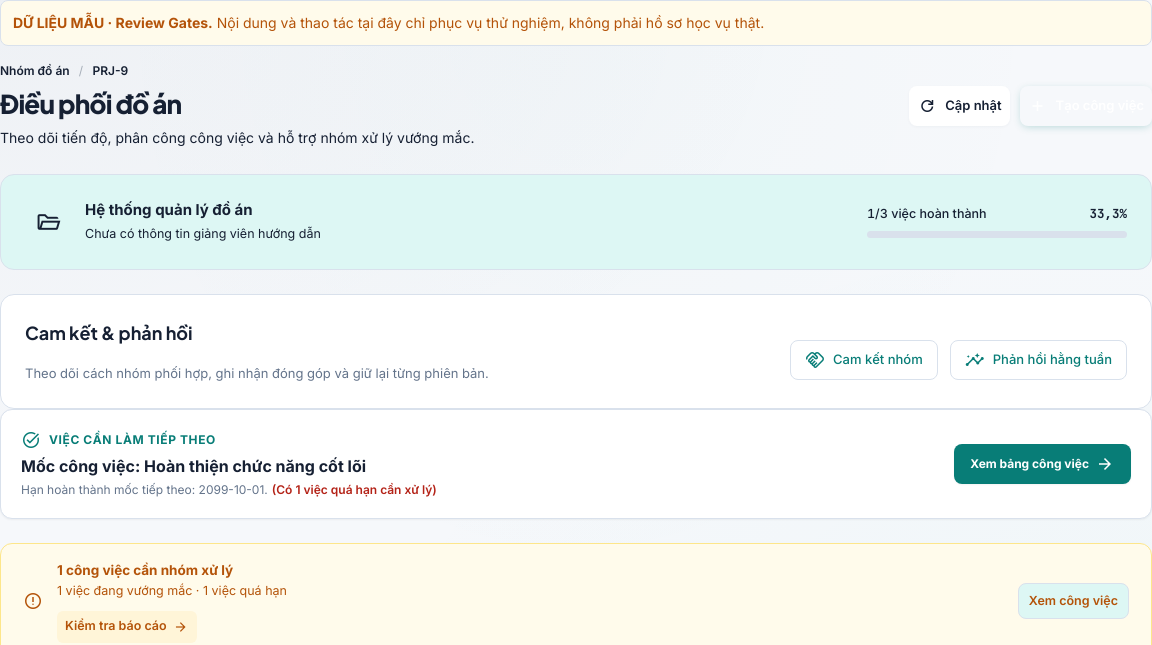
Test: collaboration workspace API integration › posts leader assignment and Vietnam due time, retains the form after failure, then reloads after success
Step 1. Click the button "Tạo công việc" → (1086, 106), box [1020,86,1151,126]
(page scrolled)
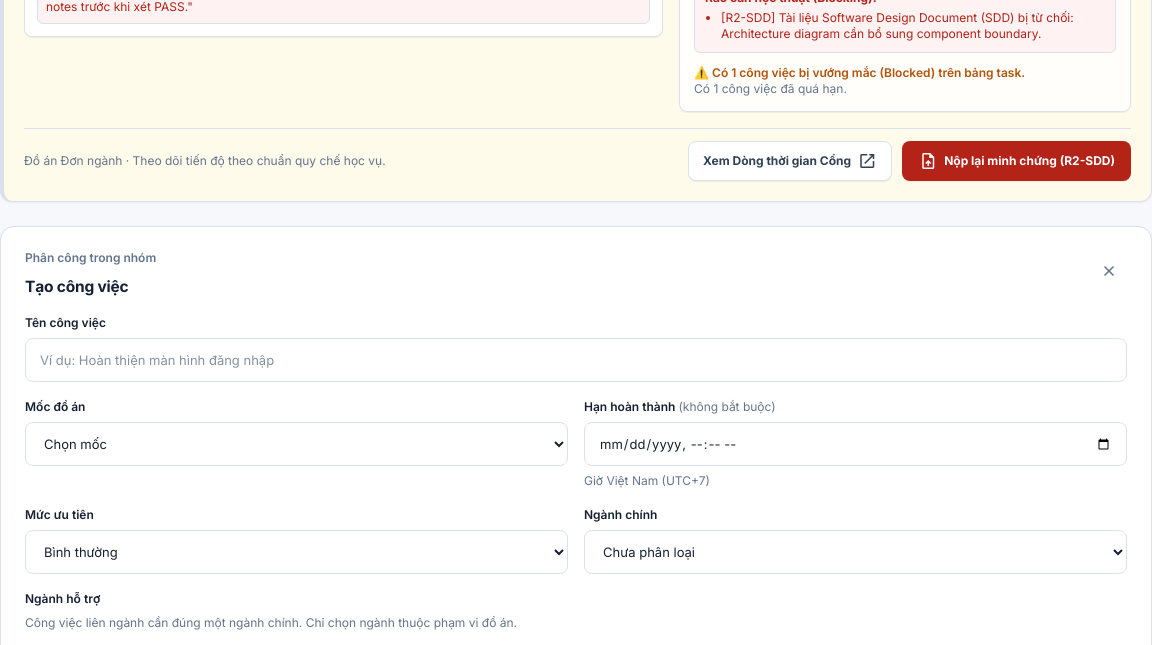
Now the dropdown labelled "Ngành chính" is shown, box [584,530,1127,574]
Step 2. Type "  Hoàn thiện đăng nhập  " into the field labelled "Tên công việc" → (576, 360), box [25,338,1127,382]
Step 3. Select "Hoàn thiện chức năng cốt lõi" in the dropdown labelled "Mốc đồ án" → (296, 444), box [25,422,568,466]
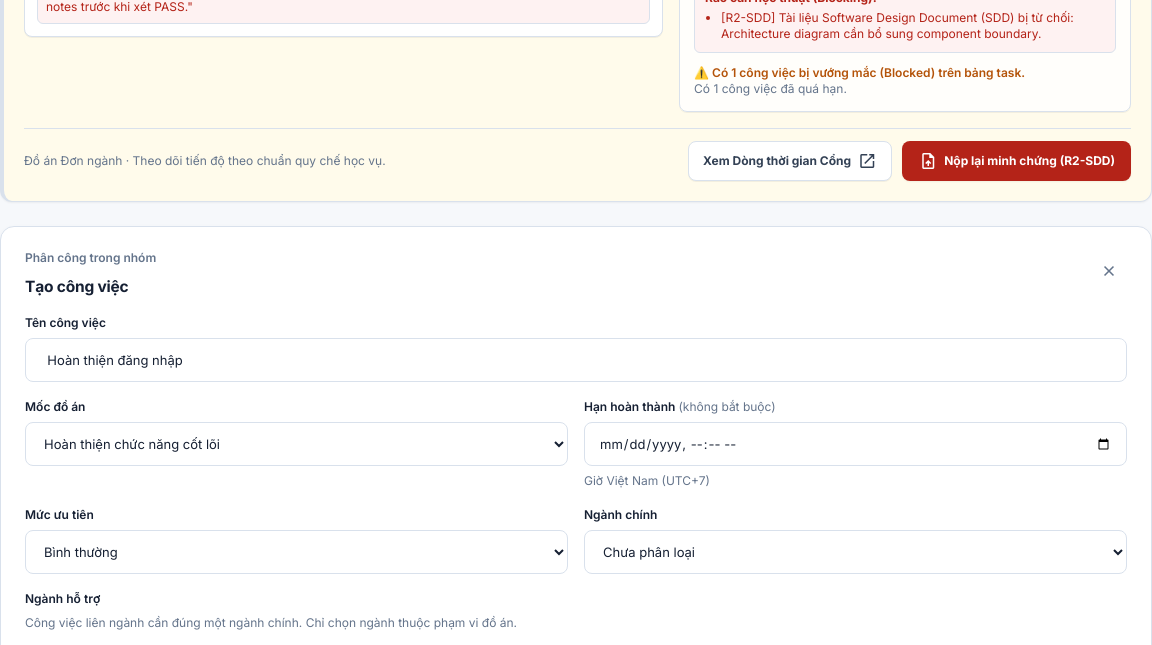
Step 4. Type "2099-10-01T15:00" into the field labelled "Hạn hoàn thành (không bắt buộc) Giờ Việt Nam (UTC+7)" → (856, 444), box [584,422,1127,466]
(page scrolled)
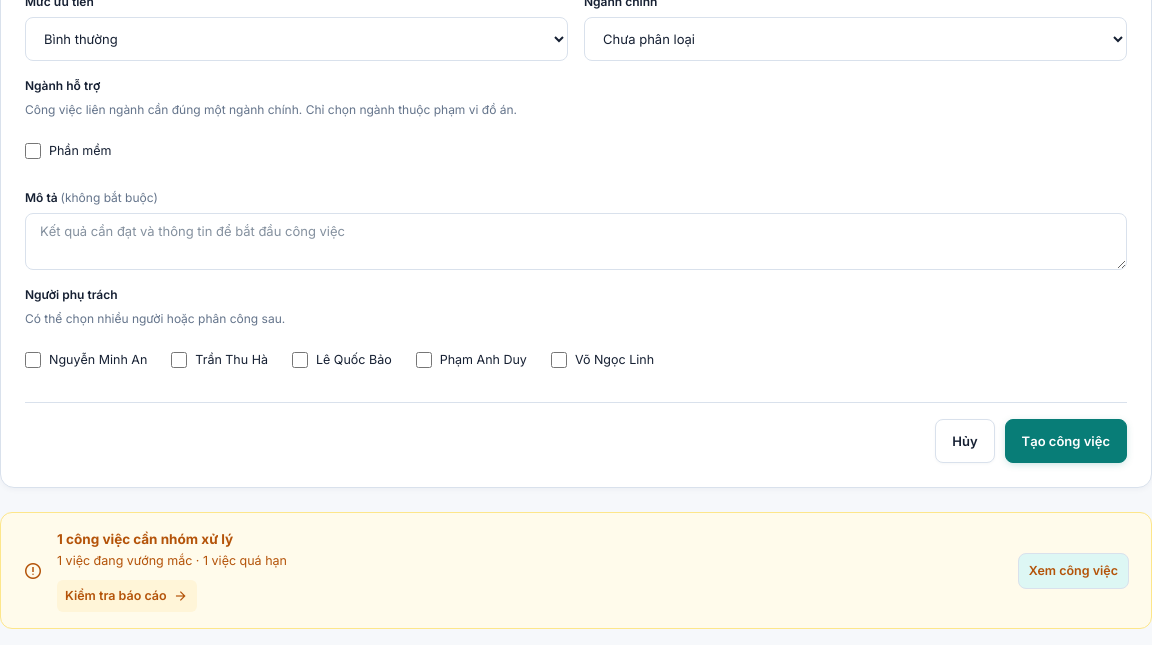
Step 5. Click the checkbox labelled "Trần Thu Hà" → (179, 360), box [171,352,187,368]
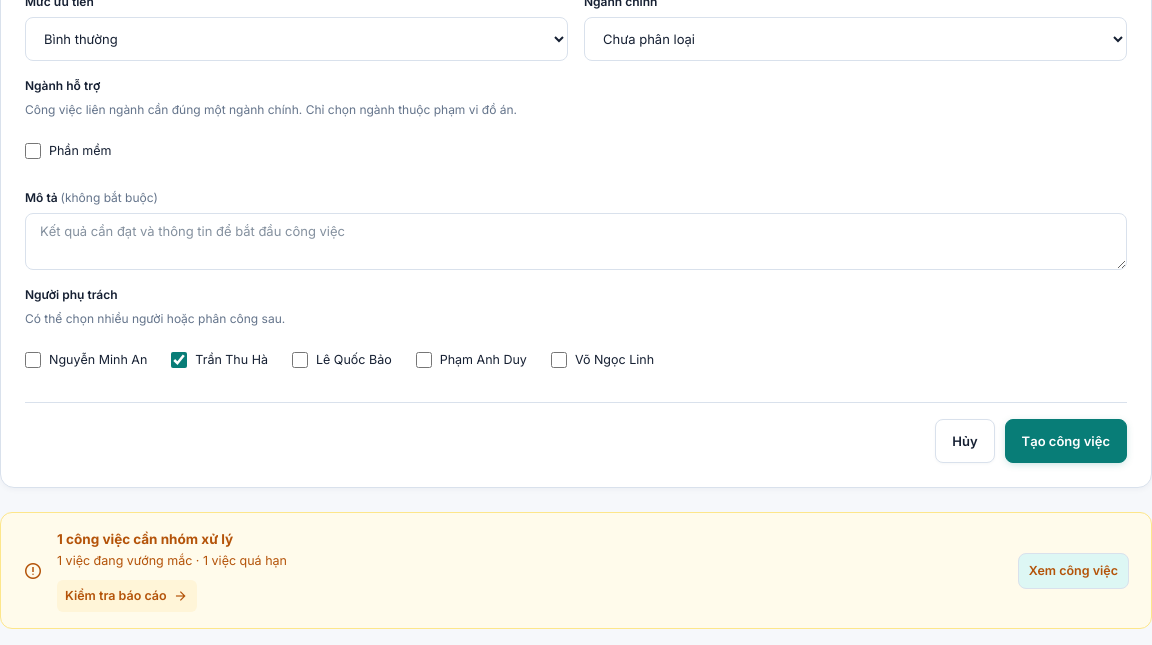
Step 6. Click the button "Tạo công việc" → (1066, 441), box [1005,419,1127,463]
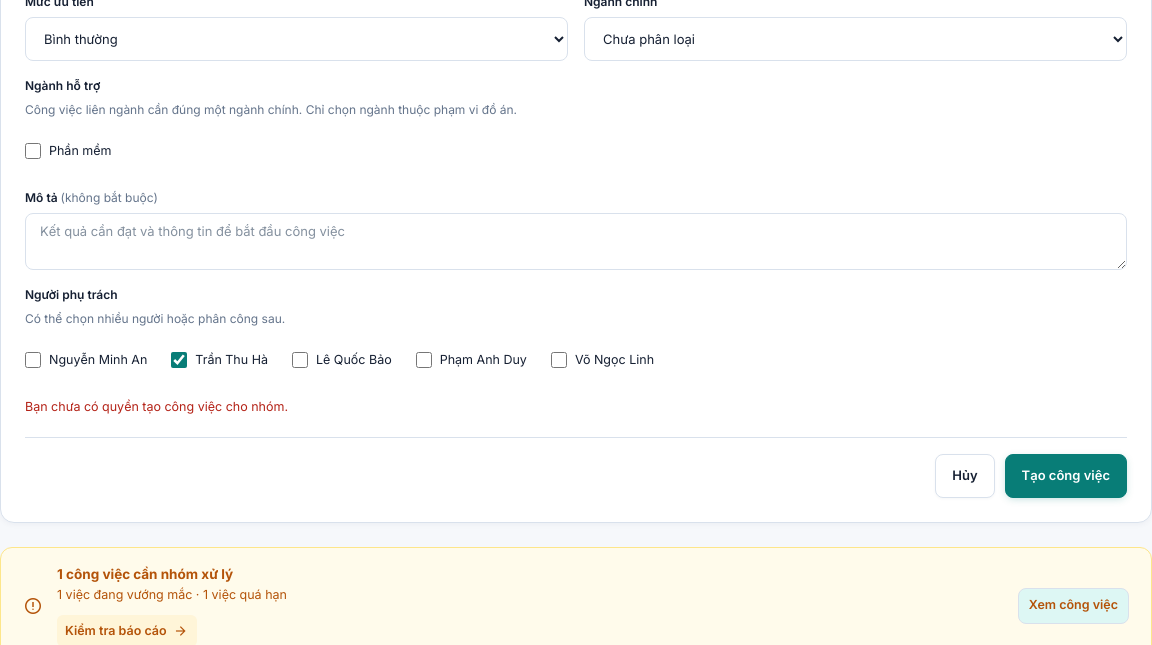
Now the text "Bạn chưa có quyền tạo công việc cho nhóm." is shown, box [25,399,288,414]
Step 7. Click the button "Tạo công việc" → (1066, 476), box [1005,454,1127,498]
(page scrolled)
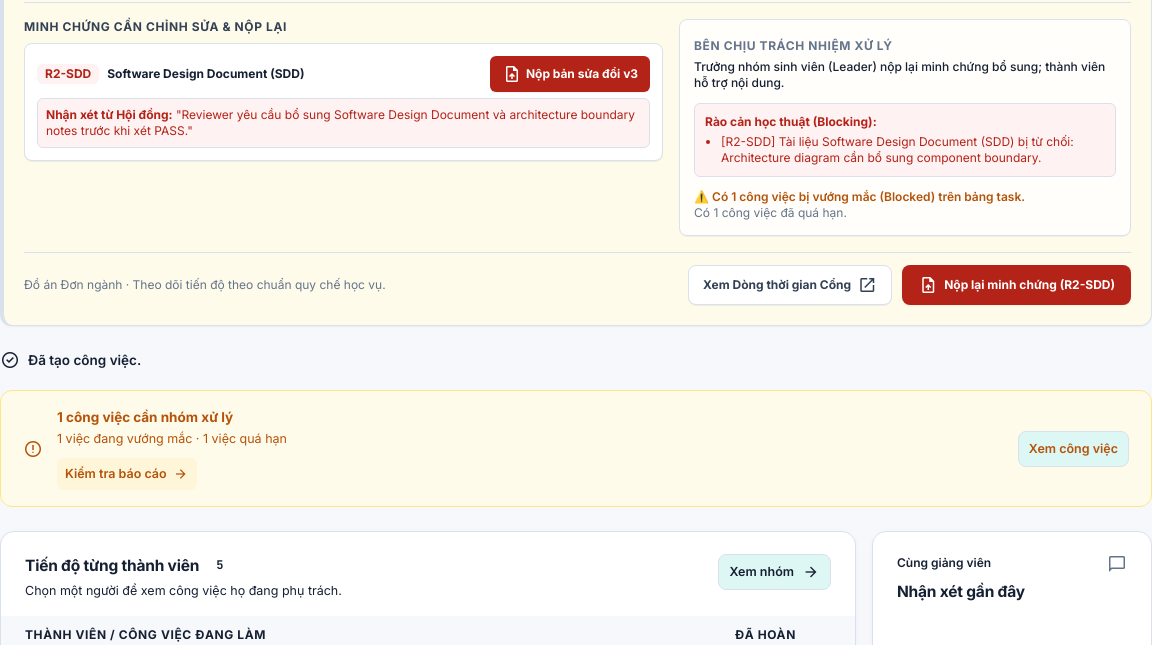
Now the text "Đã tạo công việc." is shown, box [0,348,141,372]
